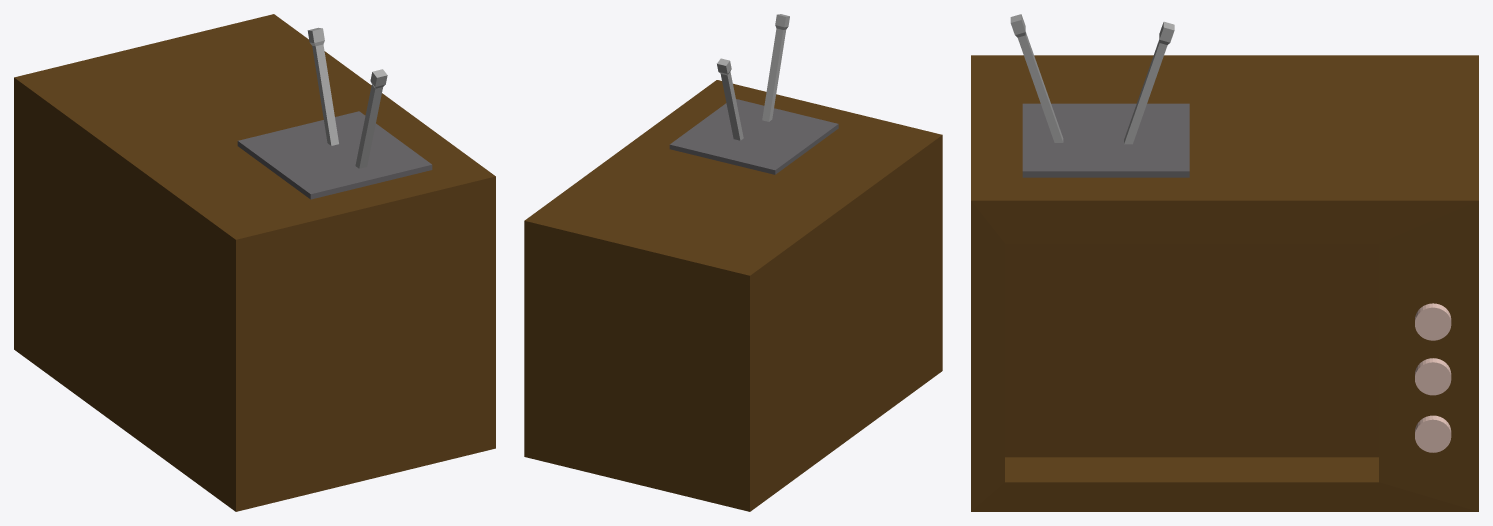
The picture shows the model from 3 angles, left to right: view 1: azimuth 30°, elevation 25°; view 2: azimuth 150°, elevation 25°; view 3: azimuth 270°, elevation 25°; orthographic projection. The views are drawn at different scales.
Parts seen in each view (by area): view 1: Cube; view 2: Cube; view 3: Cube.
Part boxes in pixels (x1,y1,x2,y2): Cube: [14, 14, 495, 511]; Cube: [524, 14, 942, 511]; Cube: [971, 14, 1478, 511].
Size of the model in its own units: 2.04 by 2.8 by 2.92.
